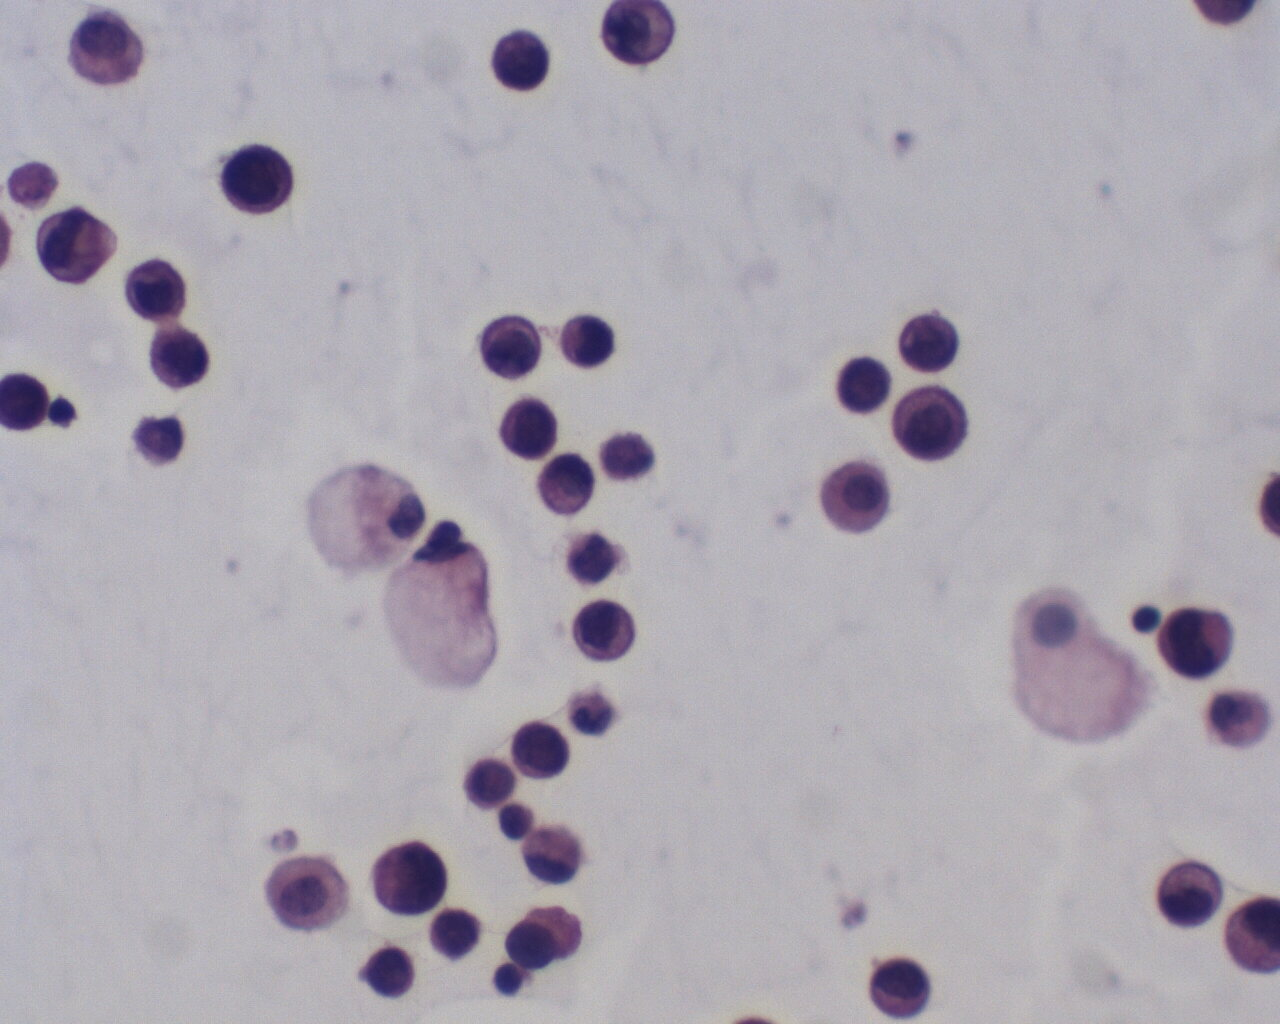ab: (1155, 599, 1246, 689), (892, 380, 975, 473), (368, 834, 451, 915), (215, 139, 298, 218), (1151, 851, 1229, 933), (139, 321, 217, 395), (478, 307, 546, 385), (495, 392, 566, 465), (122, 254, 194, 322), (484, 26, 554, 95), (508, 715, 576, 785), (572, 594, 638, 665), (864, 956, 937, 1020), (556, 309, 624, 376)
histo: (301, 453, 428, 580)
lymph: (1130, 598, 1165, 639)
meso: (817, 456, 895, 539)
